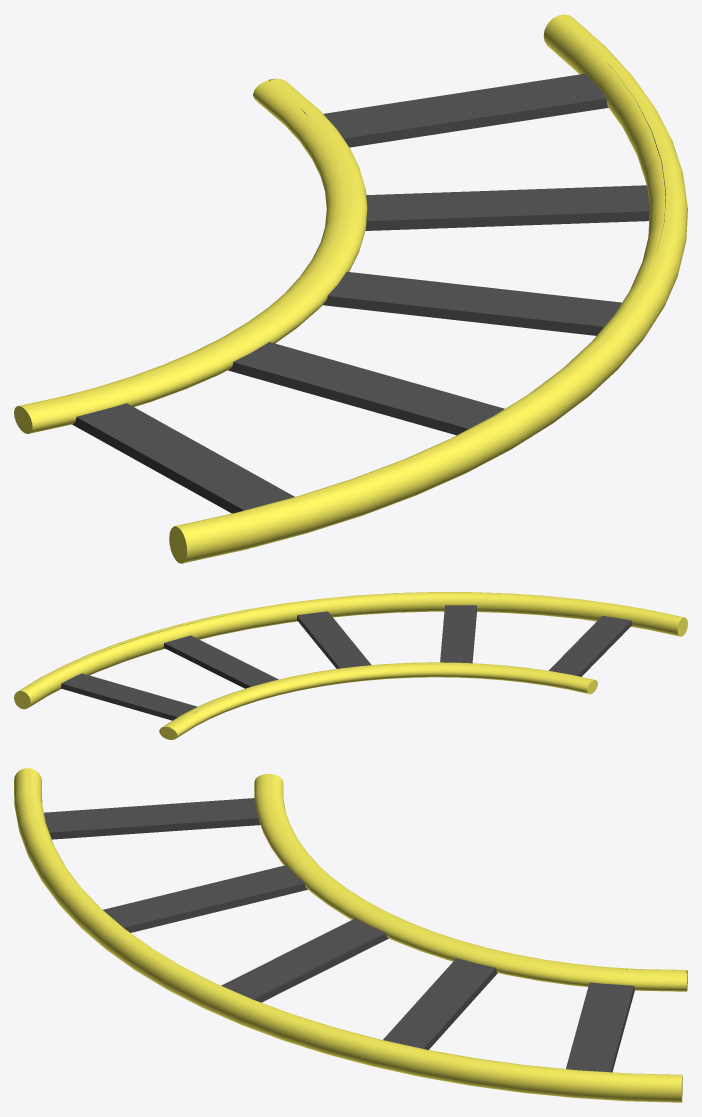
Rendered from Roller coaster2.fbx.
3 views of the same model, one above another, from view 1: azimuth 30°, elevation 25°; view 2: azimuth 150°, elevation 25°; view 3: azimuth 270°, elevation 25° (orthographic). The views are drawn at different scales.
Visible parts, largest first — view 1: Box004; view 2: Box004; view 3: Box004.
Part boxes in pixels (x1,y1,x2,y2): Box004: (14, 14, 687, 563); Box004: (14, 592, 687, 739); Box004: (14, 768, 687, 1102).
Size of the model in its own units: 598 by 34.59 by 563.
Materials: 1 (1 with a texture image).
